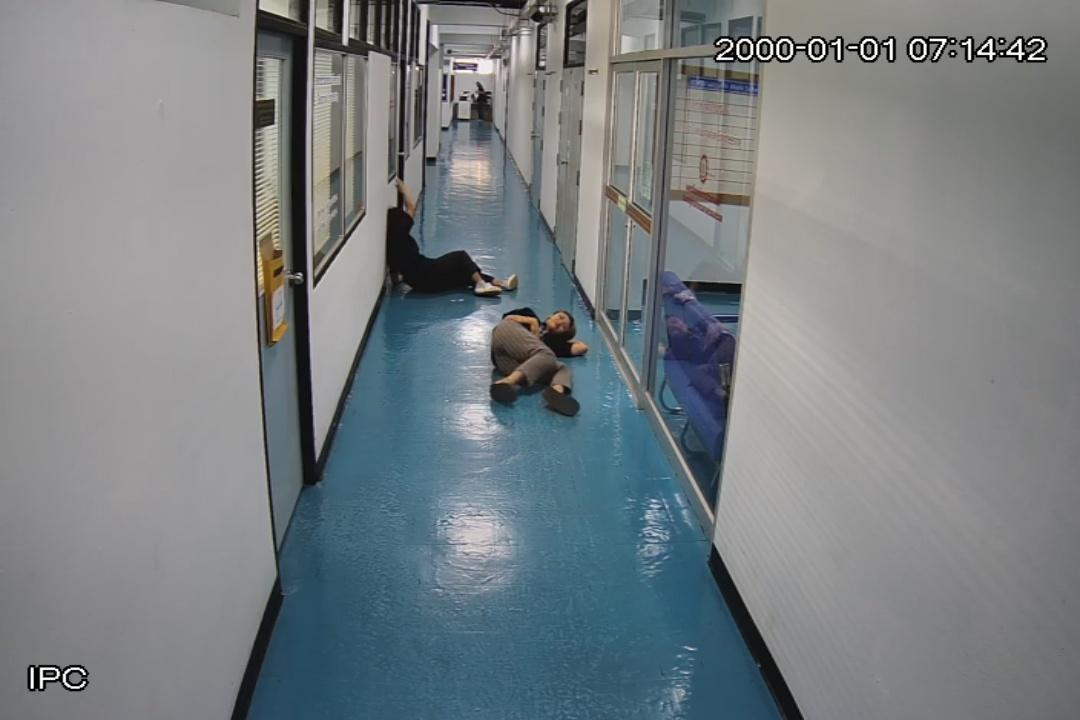fall: (380, 176, 526, 300), (484, 306, 600, 420)
